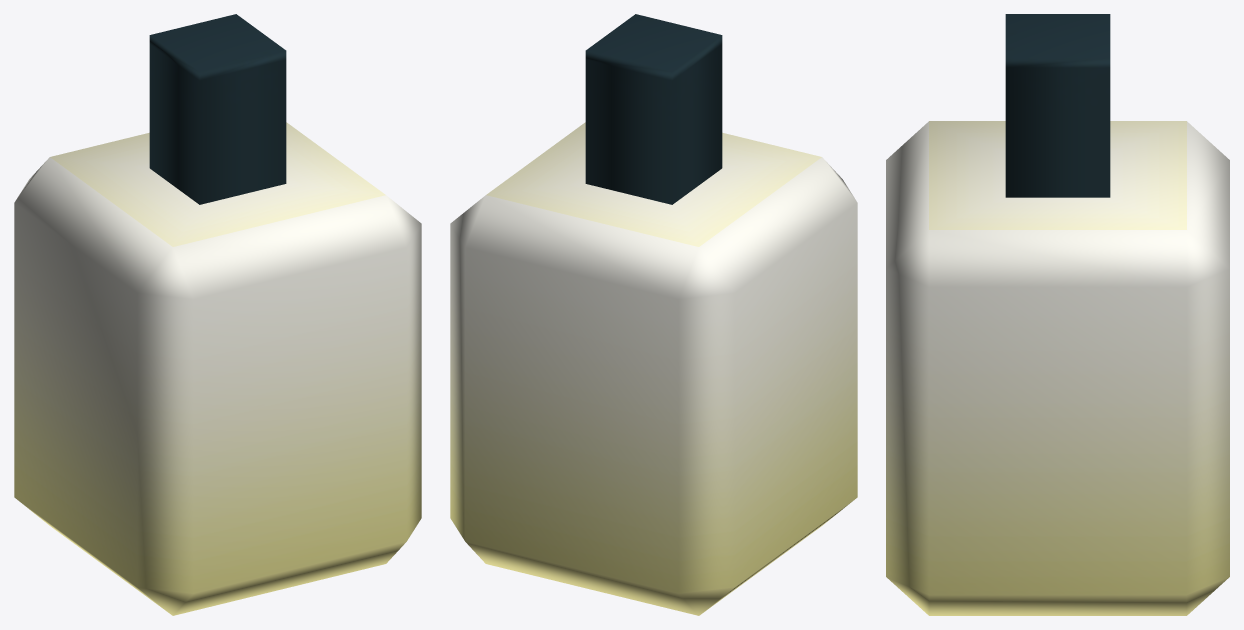
The model's file is candle_medium_2.fbx.
3 views of the same model, side by side, from view 1: azimuth 30°, elevation 25°; view 2: azimuth 150°, elevation 25°; view 3: azimuth 270°, elevation 25° (orthographic). The views are drawn at different scales.
Visible parts, largest first — view 1: candle_medium_2; view 2: candle_medium_2; view 3: candle_medium_2.
Boxes of the visible parts, x1,y1,x2,y2 form: candle_medium_2: (14, 14, 421, 615); candle_medium_2: (450, 14, 857, 615); candle_medium_2: (886, 14, 1229, 615).
Bounding box in the file's own units: 26.94 × 45.43 × 26.94.
Materials: 1 (1 with a texture image).
